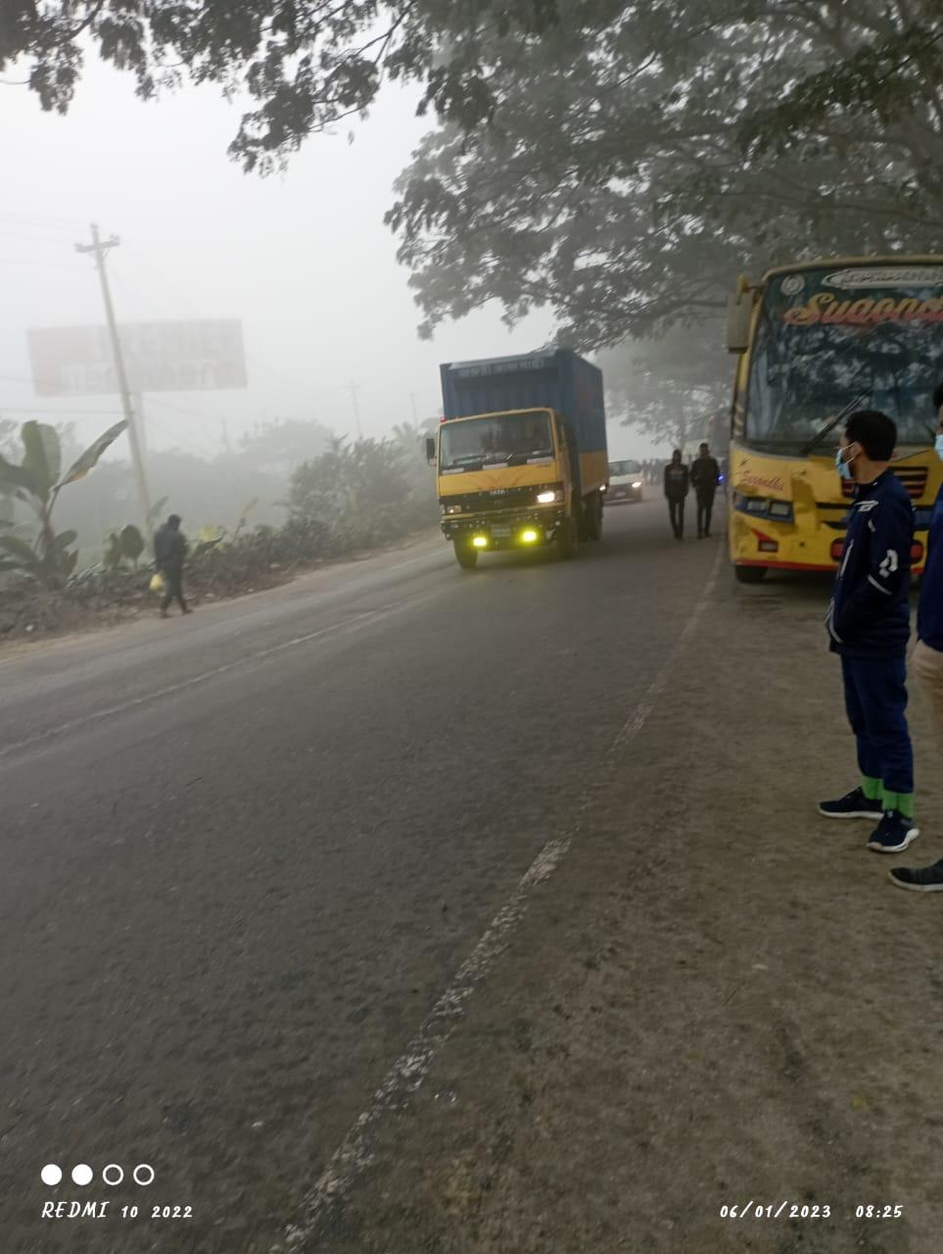Bus: (714, 231, 943, 592)
Car: (605, 447, 648, 508)
Truck: (409, 338, 621, 568)
